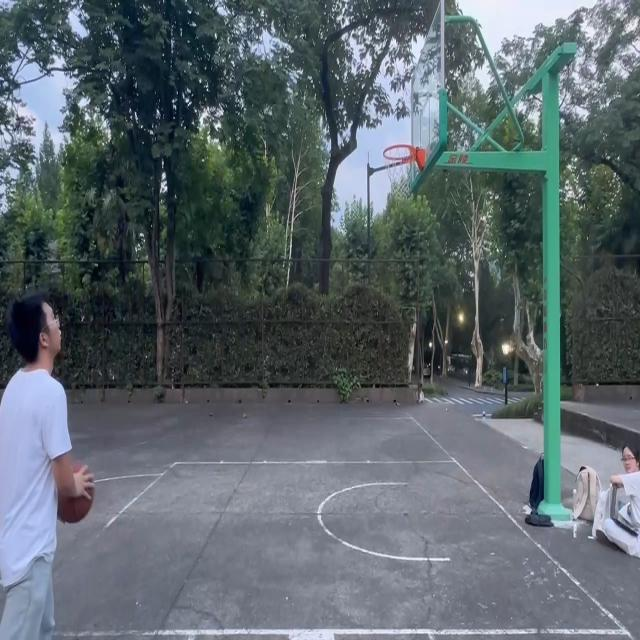basketball: (383, 144, 427, 199)
rim: (58, 462, 96, 526)
